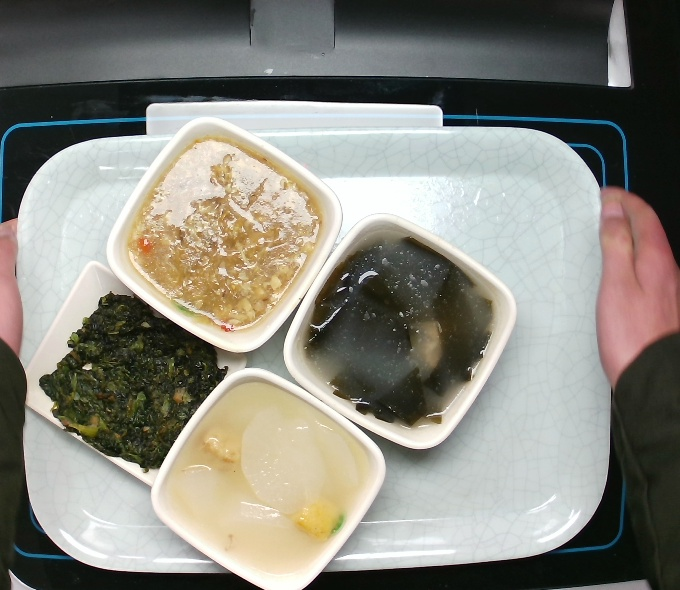wcq-HaiDaiPaiGuTang: (302, 233, 500, 436)
wcq-LuoBoYouPaoTang: (172, 378, 371, 578)
wcq-QinCaiBing: (40, 290, 232, 469)
wcq-SuanLaGeng: (120, 136, 323, 336)
